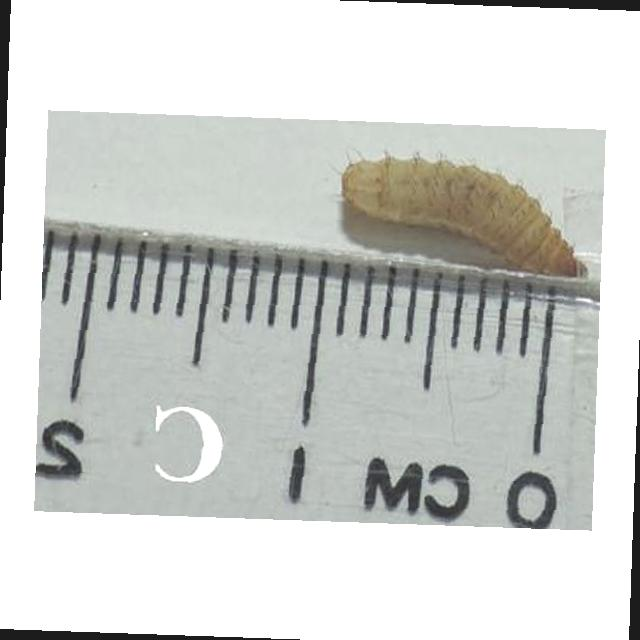Maggot: (338, 154, 589, 280)
